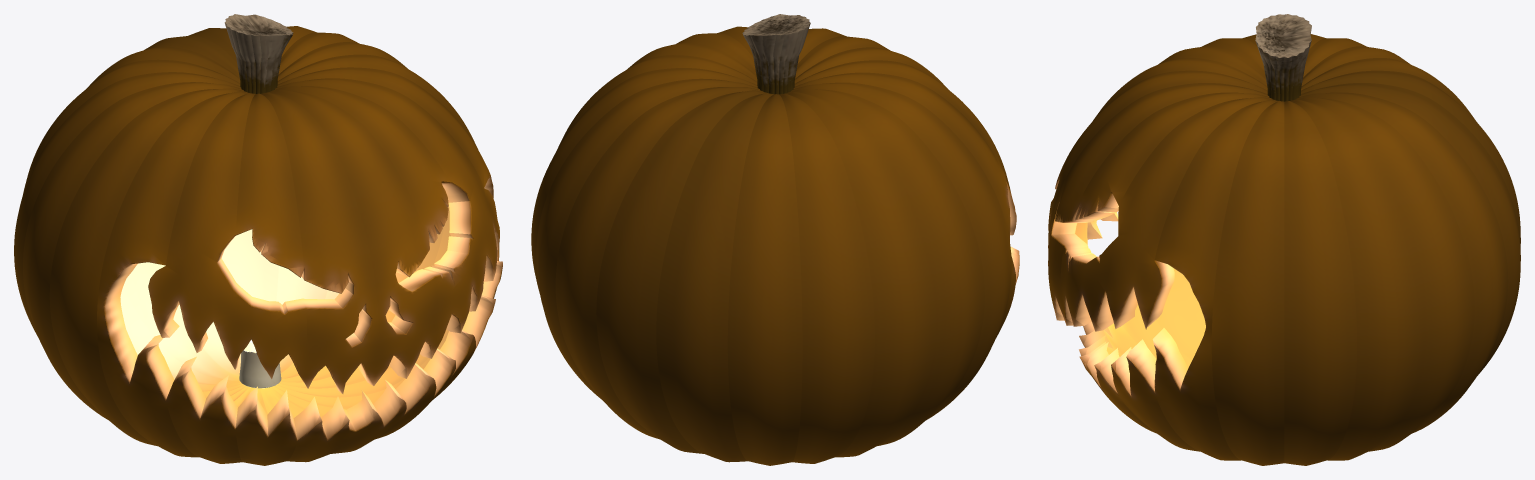
3 views of the same model, side by side, from view 1: azimuth 30°, elevation 25°; view 2: azimuth 150°, elevation 25°; view 3: azimuth 270°, elevation 25° (orthographic).
Visible parts, largest first — view 1: Pumpkin, Candle; view 2: Pumpkin; view 3: Pumpkin.
Boxes of the visible parts, box(x1,y1,x2,y2) form: Pumpkin: box(14, 14, 502, 465); Candle: box(239, 339, 281, 388); Pumpkin: box(531, 14, 1019, 465); Pumpkin: box(1048, 14, 1520, 465).
Bounding box in the file's own units: 0.4378 × 0.3954 × 0.4344.
3 materials, 3 textured.
